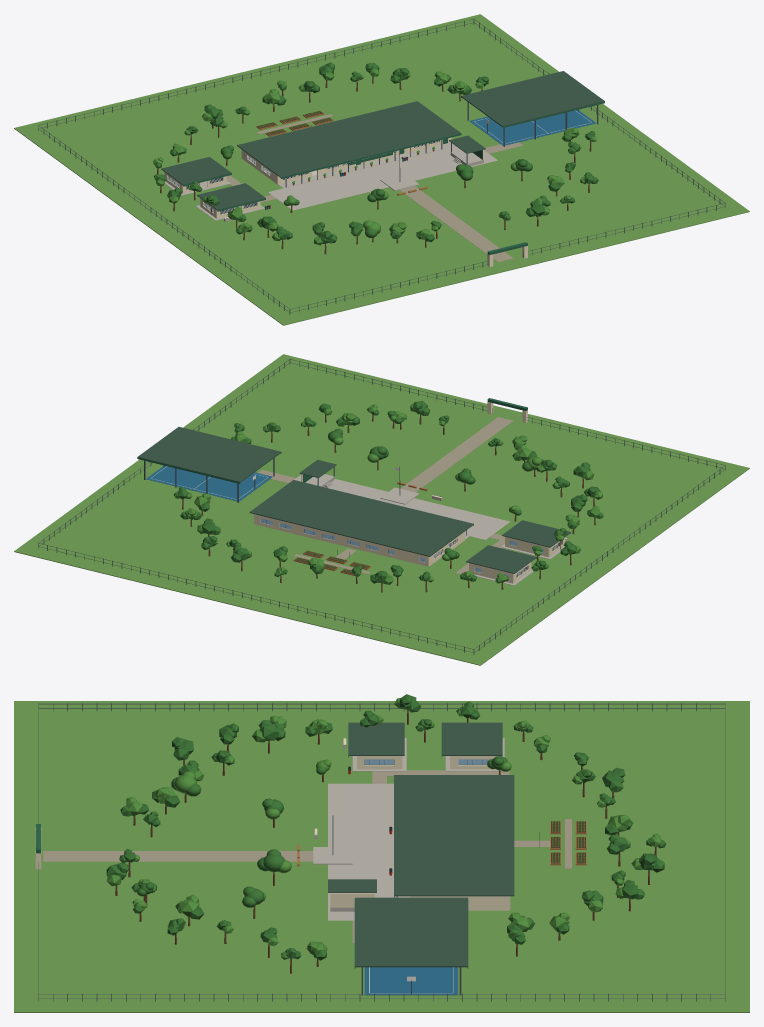
The model's file is bayanihan-school.glb.
3 views of the same model, one above another, from view 1: azimuth 30°, elevation 25°; view 2: azimuth 150°, elevation 25°; view 3: azimuth 270°, elevation 25° (orthographic). The views are drawn at different scales.
Visible parts, largest first — view 1: grass, roof, concrete, leaf, metal, leaf2, path, court, wall, trim, trunk; view 2: grass, roof, leaf, metal, concrete, wall, leaf2, path, court, trunk, glass; view 3: grass, roof, leaf, concrete, leaf2, metal, path, court, wall, trunk, soil.
Boxes of the visible parts, bbox=[...] form: grass: bbox=[14, 14, 749, 325]; roof: bbox=[161, 71, 604, 209]; concrete: bbox=[165, 142, 497, 221]; leaf: bbox=[154, 62, 598, 243]; metal: bbox=[38, 19, 725, 314]; leaf2: bbox=[153, 69, 596, 245]; path: bbox=[226, 114, 522, 262]; court: bbox=[469, 110, 596, 145]; wall: bbox=[164, 137, 527, 266]; trim: bbox=[183, 97, 604, 255]; trunk: bbox=[157, 76, 591, 254]; grass: bbox=[14, 354, 749, 665]; roof: bbox=[137, 427, 570, 573]; leaf: bbox=[173, 400, 603, 583]; metal: bbox=[38, 359, 725, 654]; concrete: bbox=[294, 474, 567, 585]; wall: bbox=[254, 402, 566, 583]; leaf2: bbox=[185, 403, 602, 584]; path: bbox=[258, 417, 513, 574]; court: bbox=[146, 466, 272, 501]; trunk: bbox=[182, 414, 595, 592]; glass: bbox=[260, 518, 562, 577]; grass: bbox=[14, 701, 749, 1012]; roof: bbox=[328, 722, 514, 967]; leaf: bbox=[106, 694, 666, 960]; concrete: bbox=[313, 738, 504, 920]; leaf2: bbox=[107, 698, 661, 959]; metal: bbox=[38, 703, 725, 1001]; path: bbox=[43, 770, 571, 943]; court: bbox=[364, 967, 457, 995]; wall: bbox=[35, 738, 510, 910]; trunk: bbox=[115, 710, 656, 973]; soil: bbox=[551, 821, 585, 863].
Size of what is drawn, in the model's own units: 150 by 9.45 by 150.
